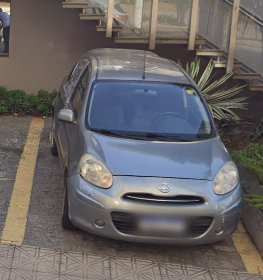car: (47, 46, 246, 254)
